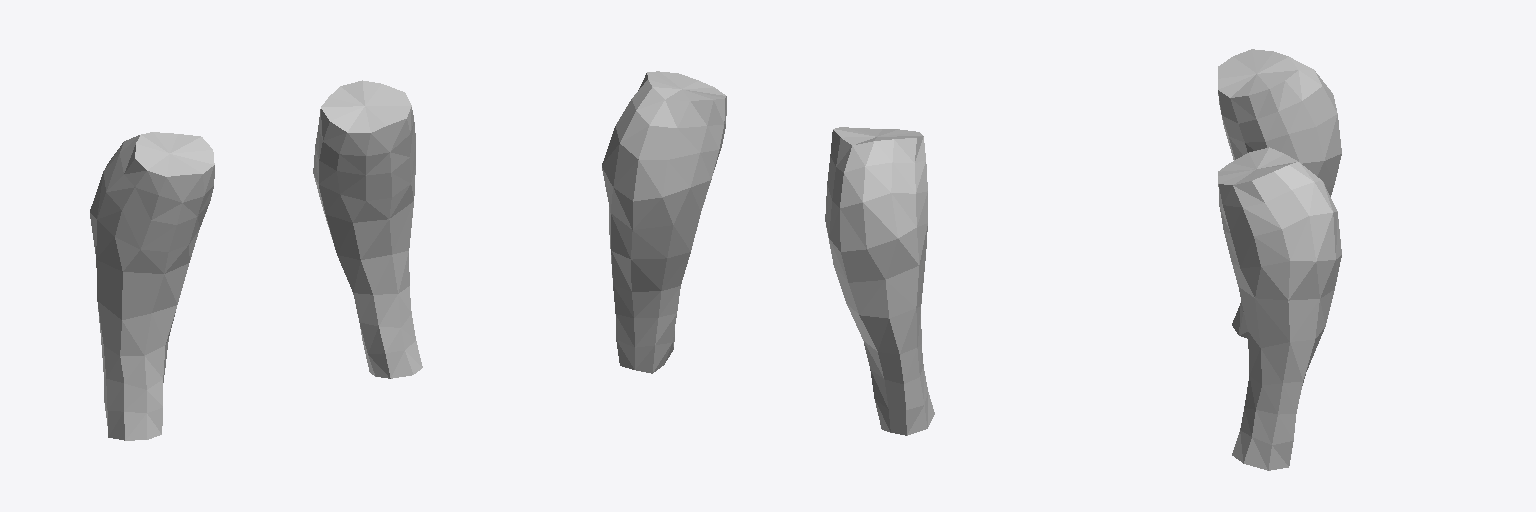
File: LowerLegs.OBJ
3 views of the same model, side by side, from view 1: azimuth 30°, elevation 25°; view 2: azimuth 150°, elevation 25°; view 3: azimuth 270°, elevation 25° (orthographic).
Visible parts, largest first — view 1: Group2; view 2: Group2; view 3: Group2.
Part boxes in pixels (left/top/right/bottom): Group2: left=90, top=80, right=422, bottom=440; Group2: left=602, top=71, right=934, bottom=435; Group2: left=1218, top=49, right=1341, bottom=470.
Bounding box in the file's own units: 43.18 × 38.52 × 14.93.